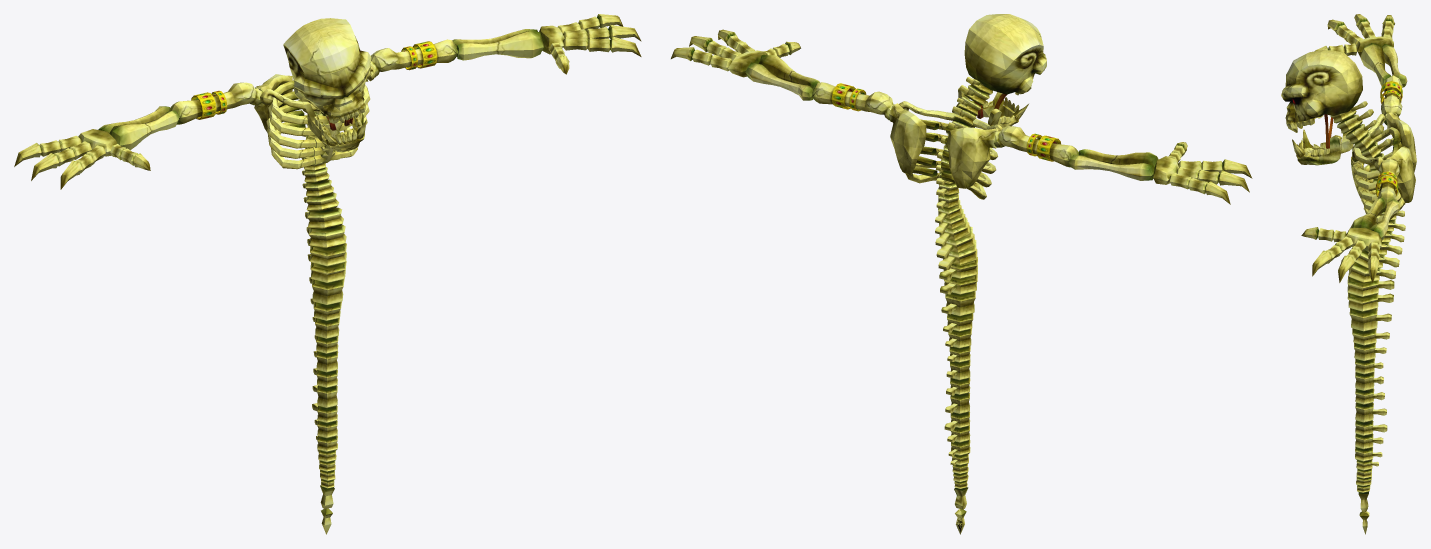
The model's file is Sarkon.obj.
The picture shows the model from 3 angles, left to right: view 1: azimuth 30°, elevation 25°; view 2: azimuth 150°, elevation 25°; view 3: azimuth 270°, elevation 25°; orthographic projection. The views are drawn at different scales.
Visible parts, largest first — view 1: Inst3D_RefRep.220; view 2: Inst3D_RefRep.220; view 3: Inst3D_RefRep.220.
Part boxes in pixels (x1,y1,x2,y2): Inst3D_RefRep.220: (14, 14, 641, 534); Inst3D_RefRep.220: (671, 14, 1252, 534); Inst3D_RefRep.220: (1281, 14, 1416, 534).
Size of the model in its own units: 4.07 by 3.44 by 0.8973.
